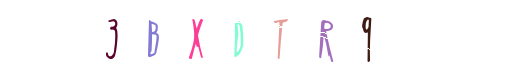3: (156, 0, 236, 80)
9: (216, 0, 296, 80)
B: (198, 0, 278, 80)
D: (208, 0, 288, 80)
R: (215, 0, 295, 80)
T: (212, 0, 292, 80)
X: (200, 0, 280, 80)
